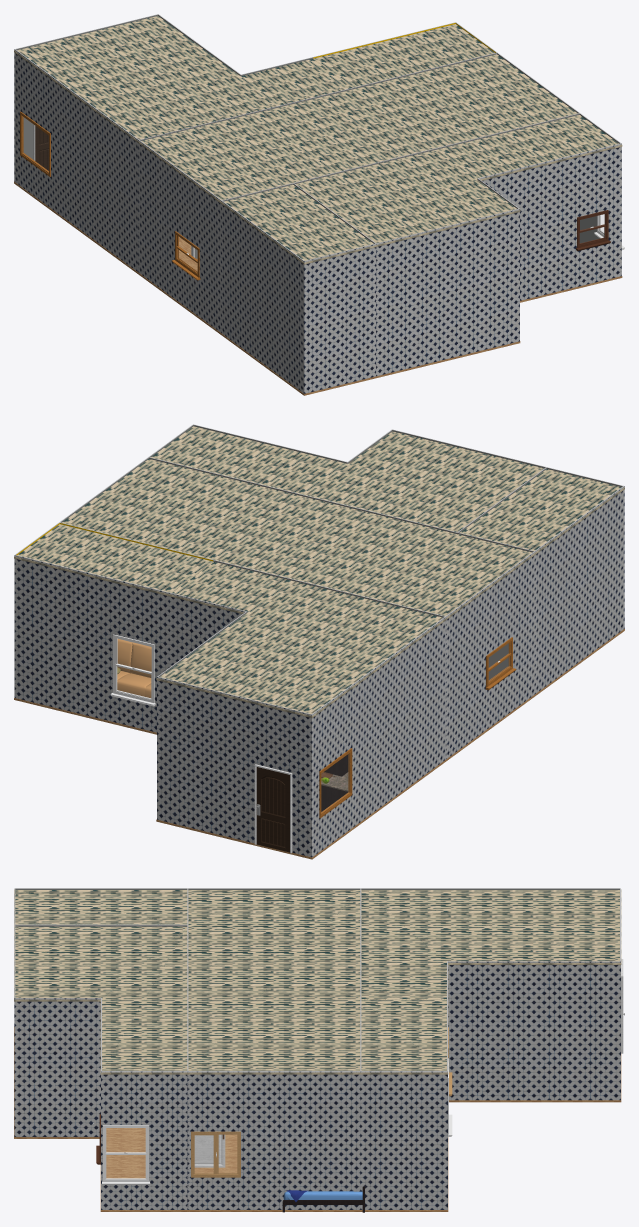
The model's file is ProcTHOR-Train-108.glb.
The picture shows the model from 3 angles, top to bottom: view 1: azimuth 30°, elevation 25°; view 2: azimuth 150°, elevation 25°; view 3: azimuth 270°, elevation 25°; orthographic projection. The views are drawn at different scales.
Visible parts, largest first — view 1: Ceiling#room|6|c, Ceiling#room|8|c, WallInside#wall|exterior|4.21|14.75|8.43|14.75, Ceiling#room|4|c, WallInside#wall|exterior|10.54|0.00|10.54|6.32, WallInside#wall|exterior|0.00|12.64|4.21|12.64, WallInside#wall|exterior|10.54|10.54|10.54|14.75, WallInside#wall|exterior|10.54|6.32|10.54|10.54, WallInside#wall|exterior|8.43|14.75|10.54|14.75, Ceiling#room|5|c, Ceiling#room|9|c, WallInside#wall|8|6.32|0.00|10.54|0.00 (+7 smaller); view 2: Ceiling#room|6|c, Ceiling#room|8|c, Ceiling#room|4|c, WallInside#wall|exterior|6.32|0.00|10.54|0.00, WallInside#wall|exterior|0.00|4.21|4.21|4.21, WallInside#wall|exterior|10.54|0.00|10.54|6.32, WallInside#wall|exterior|10.54|10.54|10.54|14.75, WallInside#wall|exterior|10.54|6.32|10.54|10.54, Ceiling#room|9|c, Ceiling#room|5|c, Doorway_9, WallInside#wall|exterior|4.21|4.21|6.32|4.21 (+8 smaller); view 3: Ceiling#room|6|c, WallInside#wall|exterior|6.32|0.00|6.32|4.21, Ceiling#room|8|c, WallInside#wall|exterior|0.00|6.32|0.00|10.54, Ceiling#room|4|c, WallInside#wall|exterior|0.00|4.21|0.00|6.32, WallInside#wall|exterior|4.21|12.64|4.21|14.75, WallInside#wall|exterior|0.00|10.54|0.00|12.64, Ceiling#room|9|c, Ceiling#room|5|c, Floor#room|4|f, Bed_20 (+6 smaller).
Boxes of the visible parts, box(x1,y1,x2,y2) form: Ceiling#room|6|c: box(139, 54, 578, 202); Ceiling#room|8|c: box(14, 16, 354, 143); WallInside#wall|exterior|4.21|14.75|8.43|14.75: box(376, 208, 519, 376); Ceiling#room|4|c: box(294, 115, 622, 246); WallInside#wall|exterior|10.54|0.00|10.54|6.32: box(14, 49, 138, 271); WallInside#wall|exterior|0.00|12.64|4.21|12.64: box(478, 143, 621, 300); WallInside#wall|exterior|10.54|10.54|10.54|14.75: box(221, 201, 304, 393); WallInside#wall|exterior|10.54|6.32|10.54|10.54: box(138, 140, 221, 332); WallInside#wall|exterior|8.43|14.75|10.54|14.75: box(304, 244, 376, 393); Ceiling#room|5|c: box(220, 185, 377, 264); Ceiling#room|9|c: box(314, 24, 494, 87); WallInside#wall|8|6.32|0.00|10.54|0.00: box(16, 14, 157, 159); Ceiling#room|6|c: box(62, 459, 535, 619); Ceiling#room|8|c: box(156, 561, 446, 717); Ceiling#room|4|c: box(149, 426, 546, 532); WallInside#wall|exterior|6.32|0.00|10.54|0.00: box(157, 677, 311, 857); WallInside#wall|exterior|0.00|4.21|4.21|4.21: box(14, 555, 169, 732); WallInside#wall|exterior|10.54|0.00|10.54|6.32: box(312, 617, 446, 857); WallInside#wall|exterior|10.54|10.54|10.54|14.75: box(535, 486, 624, 693); WallInside#wall|exterior|10.54|6.32|10.54|10.54: box(446, 551, 535, 758); Ceiling#room|9|c: box(14, 524, 213, 595); Ceiling#room|5|c: box(458, 469, 624, 554); Doorway_9: box(254, 764, 292, 853); WallInside#wall|exterior|4.21|4.21|6.32|4.21: box(169, 593, 246, 667); Ceiling#room|6|c: box(187, 890, 361, 1074); WallInside#wall|exterior|6.32|0.00|6.32|4.21: box(448, 961, 620, 1100); Ceiling#room|8|c: box(360, 889, 621, 999); WallInside#wall|exterior|0.00|6.32|0.00|10.54: box(187, 1071, 361, 1209); Ceiling#room|4|c: box(14, 926, 188, 1074); WallInside#wall|exterior|0.00|4.21|0.00|6.32: box(360, 1071, 447, 1209); WallInside#wall|exterior|4.21|12.64|4.21|14.75: box(14, 998, 100, 1136); WallInside#wall|exterior|0.00|10.54|0.00|12.64: box(101, 1071, 188, 1209); Ceiling#room|9|c: box(360, 999, 448, 1074); Ceiling#room|5|c: box(14, 889, 188, 925); Floor#room|4|f: box(14, 1063, 188, 1211); Bed_20: box(282, 1186, 364, 1212).
Size of what is drawn, in the model's own units: 10.84 by 3.77 by 14.88.
Materials: 327 (157 with a texture image).
